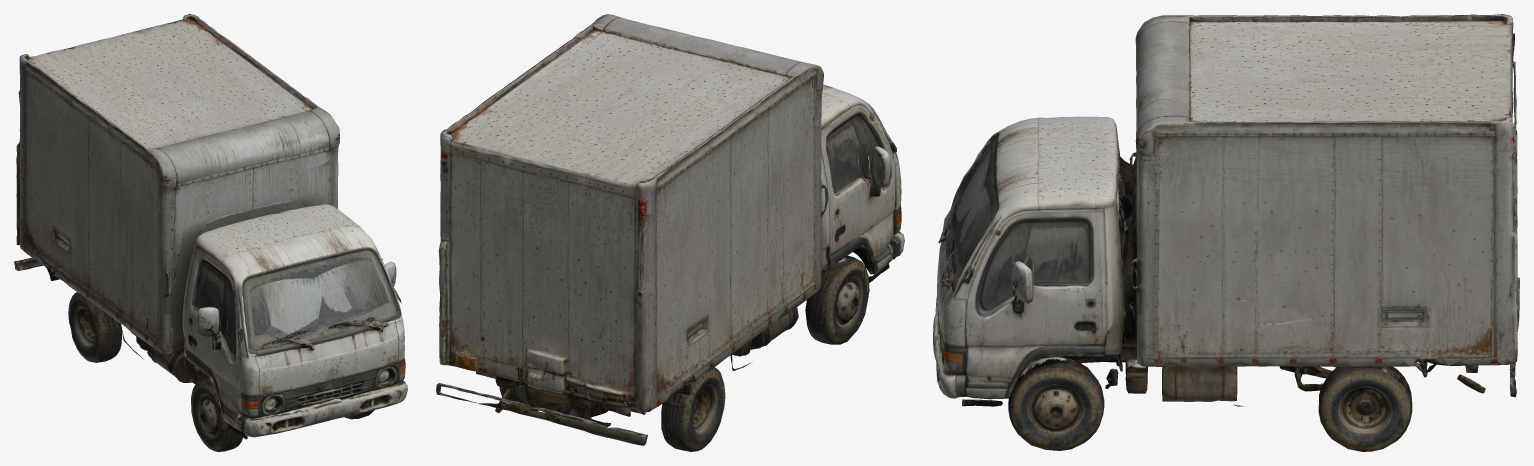
Rendered from BoxTruck.glb.
3 renders of one model, left to right at view 1: azimuth 30°, elevation 25°; view 2: azimuth 150°, elevation 25°; view 3: azimuth 270°, elevation 25°, orthographic. The views are drawn at different scales.
Parts seen in each view (by area): view 1: texture_mapping; view 2: texture_mapping; view 3: texture_mapping.
Boxes of the visible parts, box(x1,y1,x2,y2) form: texture_mapping: box(14, 14, 407, 451); texture_mapping: box(436, 14, 904, 451); texture_mapping: box(933, 14, 1519, 451).
Bounding box in the file's own units: 0.499 × 0.638 × 1.
Materials: 1 (1 with a texture image).
